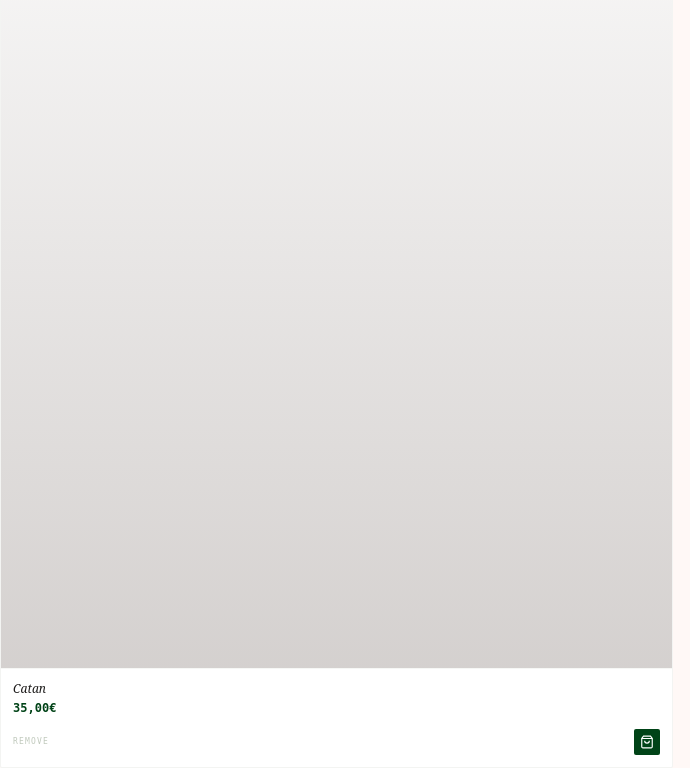
Test case: FavoritosTab › pide confirmación antes de eliminar
(page scrolled)
Click the button "remove" at (31, 742), box [13,736,49,748]
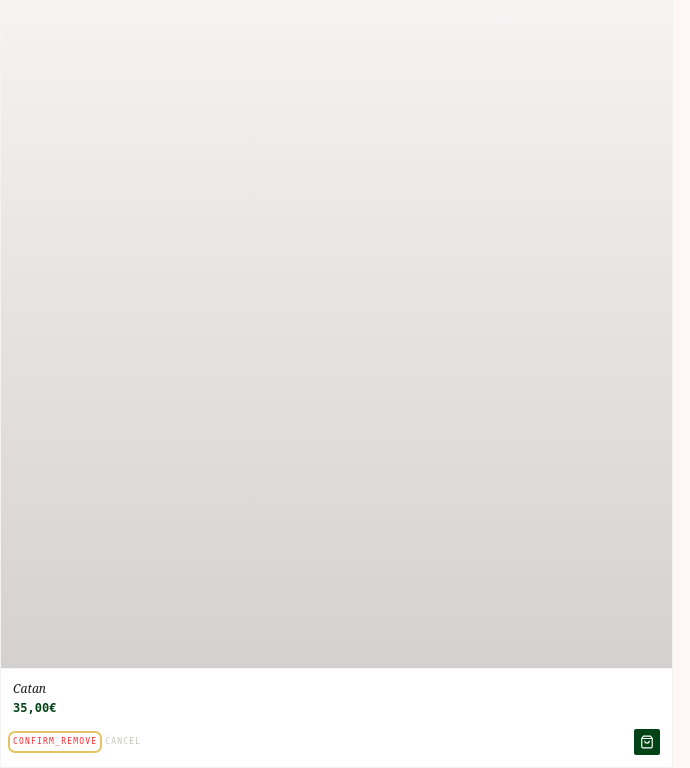
Check: the button "confirm_remove" is shown, box [13,736,97,748]
